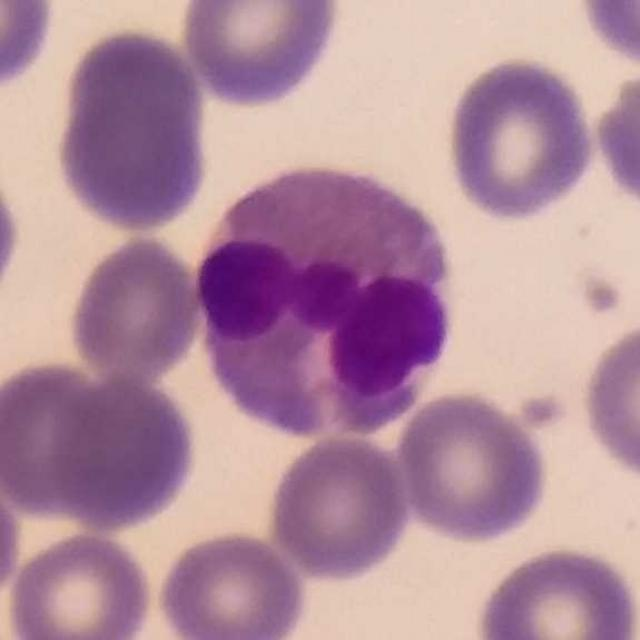Eosinophil: (192, 154, 460, 438)
Platelets: (579, 270, 625, 318)
RBC: (51, 21, 215, 236), (441, 52, 601, 226), (393, 388, 552, 546), (47, 372, 201, 533), (263, 432, 414, 583), (63, 233, 205, 383), (0, 355, 120, 523), (174, 0, 347, 111), (154, 526, 310, 640), (3, 528, 156, 640), (472, 541, 640, 640), (576, 313, 640, 486), (589, 58, 640, 219), (0, 0, 61, 93), (573, 0, 640, 70), (0, 149, 26, 323), (0, 460, 24, 611)
